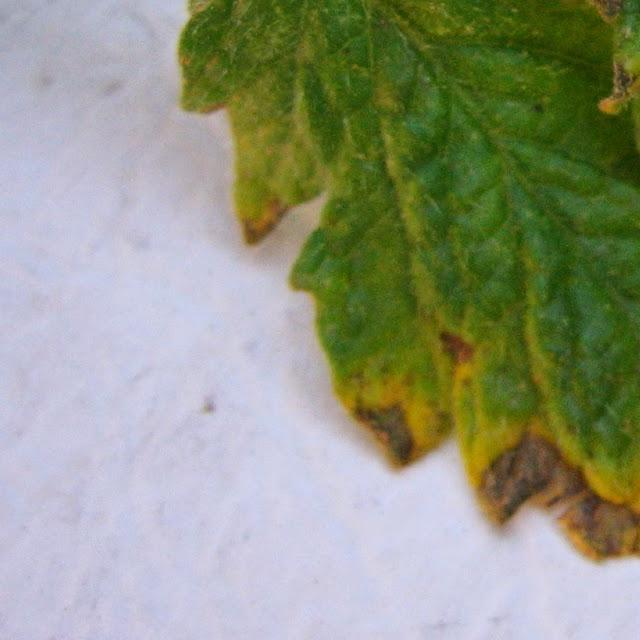Tomato Septoria leaf spot: (119, 0, 640, 640), (199, 0, 640, 391)
